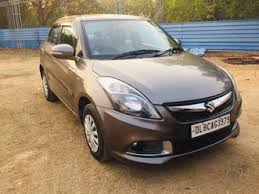Swift: (35, 10, 247, 168)
